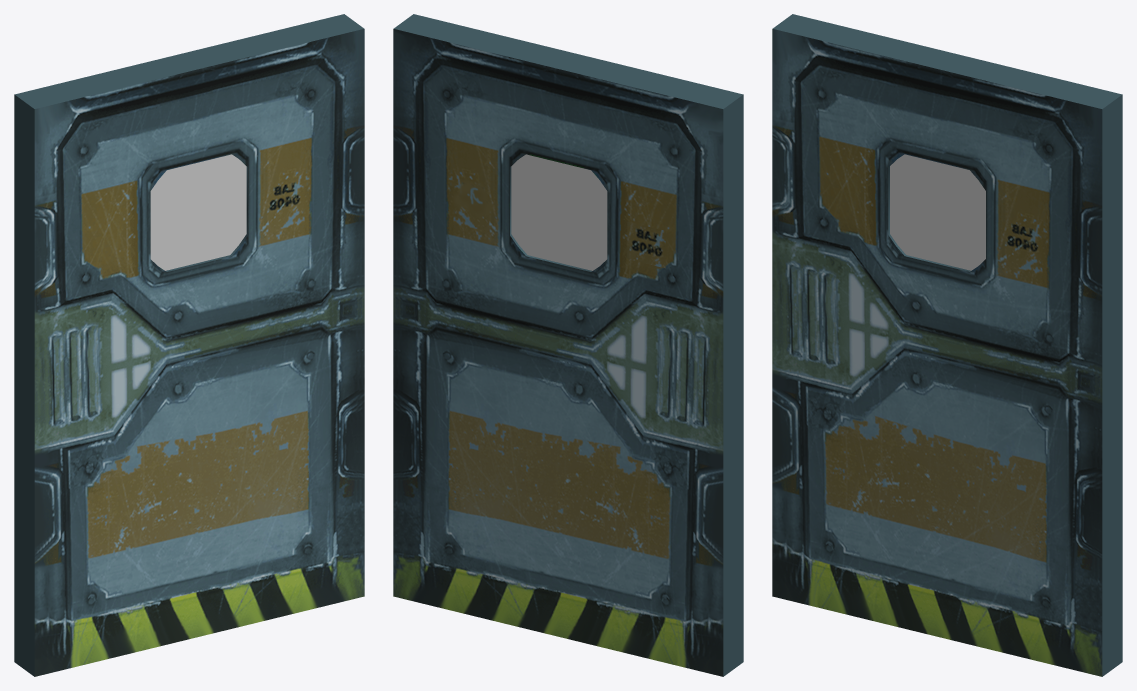
The model's file is DoorWindow.FBX.
3 renders of one model, left to right at view 1: azimuth 30°, elevation 25°; view 2: azimuth 150°, elevation 25°; view 3: azimuth 330°, elevation 25°, orthographic.
Parts seen in each view (by area): view 1: Door, Box003; view 2: Door, Box003; view 3: Door, Box003.
Part boxes in pixels (bbox=[...]): Door: bbox=[14, 14, 364, 676]; Box003: bbox=[150, 154, 246, 270]; Door: bbox=[393, 14, 743, 676]; Box003: bbox=[511, 154, 607, 270]; Door: bbox=[772, 14, 1122, 676]; Box003: bbox=[890, 154, 985, 270].
Size of the model in its own units: 152 by 250 by 16.08.
Materials: 1 (1 with a texture image).
